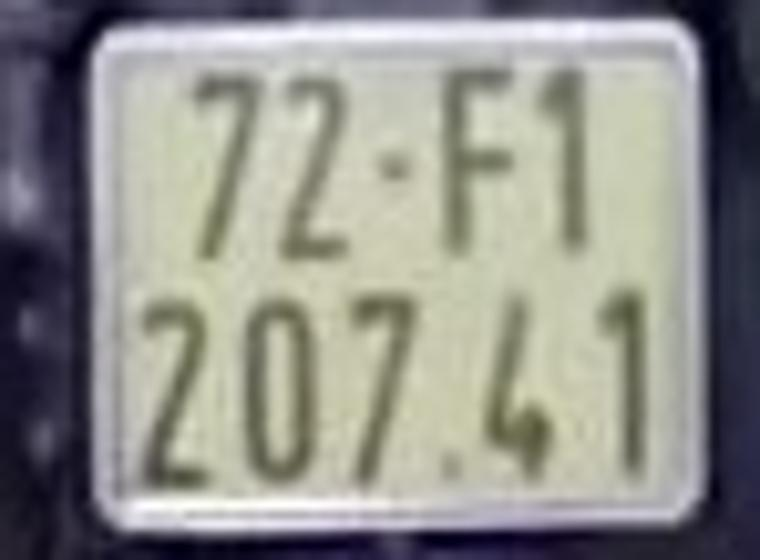-: (371, 148, 422, 184)
.: (432, 445, 480, 485)
0: (241, 295, 320, 485)
1: (533, 66, 602, 248), (596, 290, 658, 479)
2: (138, 298, 213, 495), (282, 71, 358, 265)
4: (487, 289, 557, 502)
7: (336, 287, 412, 488), (188, 66, 263, 261)
F: (431, 60, 516, 257)
